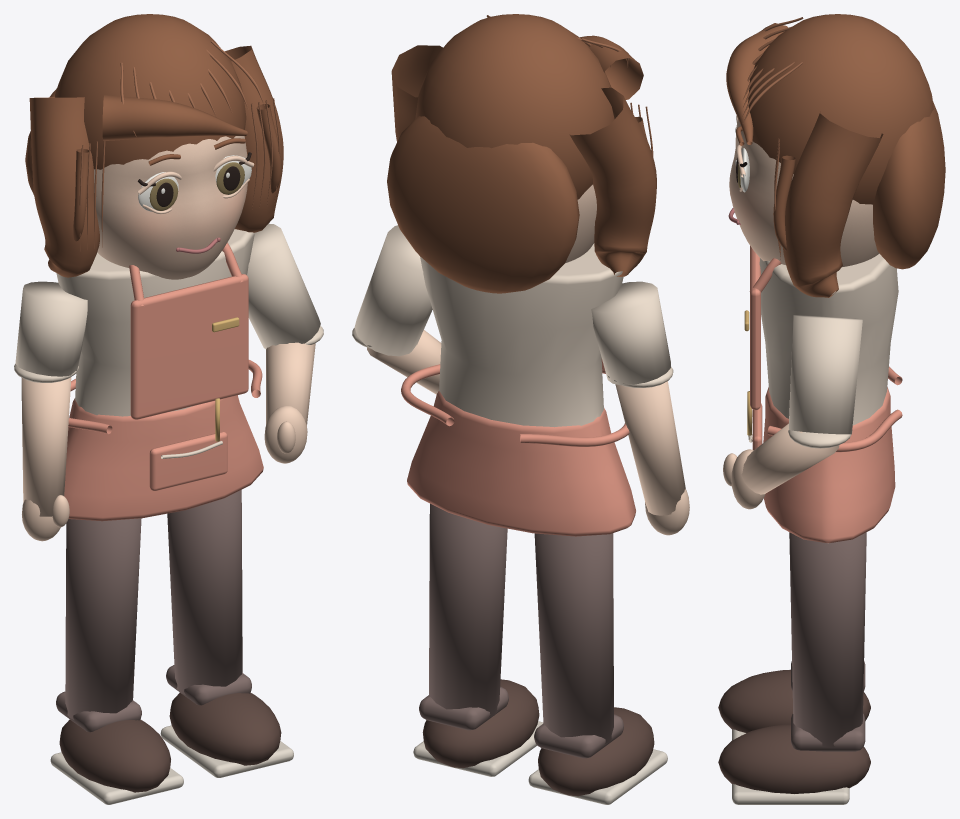
File: staff_female_02.glb
The picture shows the model from 3 angles, left to right: view 1: azimuth 30°, elevation 25°; view 2: azimuth 150°, elevation 25°; view 3: azimuth 270°, elevation 25°; orthographic projection. The views are drawn at different scales.
Visible parts, largest first — view 1: Hair_base.002, Apron_lower.002, Apron_bib.002, Head.002, Leg_L.002, Leg_R.002, Clothed_torso.002, wave_lock_-1, Sleeve_1.002, Shoe_R.002, Shoe_L.002, Bare_forearm_-1.002 (+13 smaller); view 2: hair_back_volume, Clothed_torso.002, Apron_lower.002, Hair_base.002, Leg_L.002, Leg_R.002, wave_lock_-1, Sleeve_1.002, Sleeve_-1.002, Bare_forearm_-1.002, Shoe_L.002, Shoe_R.002 (+11 smaller); view 3: Hair_base.002, Leg_R.002, Clothed_torso.002, Apron_lower.002, wave_lock_1, hair_back_volume, Sleeve_1.002, Shoe_R.002, Head.002, Shoe_L.002, Bare_forearm_1.002, side_fringe (+8 smaller).
Part boxes in pixels (left/top/right/bottom): Hair_base.002: left=55, top=14, right=246, bottom=169; Apron_lower.002: left=64, top=395, right=263, bottom=521; Apron_bib.002: left=130, top=274, right=248, bottom=419; Head.002: left=94, top=136, right=247, bottom=279; Leg_L.002: left=65, top=518, right=141, bottom=719; Leg_R.002: left=167, top=490, right=242, bottom=695; Clothed_torso.002: left=56, top=229, right=254, bottom=416; wave_lock_-1: left=29, top=97, right=99, bottom=277; Sleeve_1.002: left=247, top=223, right=320, bottom=348; Shoe_R.002: left=169, top=692, right=281, bottom=765; Shoe_L.002: left=59, top=719, right=170, bottom=792; Bare_forearm_-1.002: left=21, top=377, right=71, bottom=516; hair_back_volume: left=387, top=116, right=579, bottom=293; Clothed_torso.002: left=420, top=243, right=623, bottom=427; Apron_lower.002: left=407, top=391, right=635, bottom=536; Hair_base.002: left=415, top=14, right=614, bottom=199; Leg_L.002: left=534, top=533, right=613, bottom=743; Leg_R.002: left=429, top=503, right=507, bottom=718; wave_lock_-1: left=569, top=87, right=656, bottom=276; Sleeve_1.002: left=354, top=225, right=432, bottom=356; Sleeve_-1.002: left=591, top=281, right=670, bottom=385; Bare_forearm_-1.002: left=615, top=381, right=685, bottom=515; Shoe_L.002: left=538, top=707, right=654, bottom=796; Shoe_R.002: left=422, top=679, right=539, bottom=768; Hair_base.002: left=748, top=14, right=933, bottom=204; Leg_R.002: left=789, top=532, right=866, bottom=747; Clothed_torso.002: left=759, top=253, right=898, bottom=425; Apron_lower.002: left=763, top=387, right=895, bottom=543; wave_lock_1: left=783, top=113, right=883, bottom=297; hair_back_volume: left=873, top=101, right=945, bottom=269; Sleeve_1.002: left=788, top=314, right=862, bottom=434; Shoe_R.002: left=718, top=724, right=870, bottom=793; Head.002: left=729, top=119, right=879, bottom=266; Shoe_L.002: left=718, top=669, right=870, bottom=732; Bare_forearm_1.002: left=741, top=423, right=839, bottom=494; side_fringe: left=726, top=23, right=787, bottom=144.
Bounding box in the file's own units: 0.8556 × 1.95 × 0.5394.
15 materials, 1 textured.
